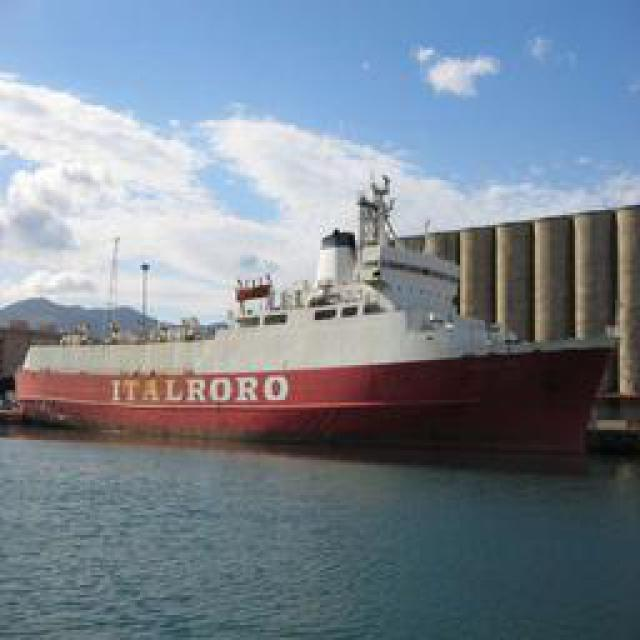Ship: (13, 185, 631, 445)
